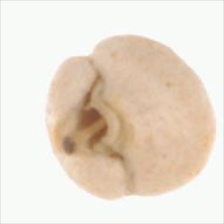L3: (65, 75, 129, 169)
L4: (45, 35, 216, 200)
